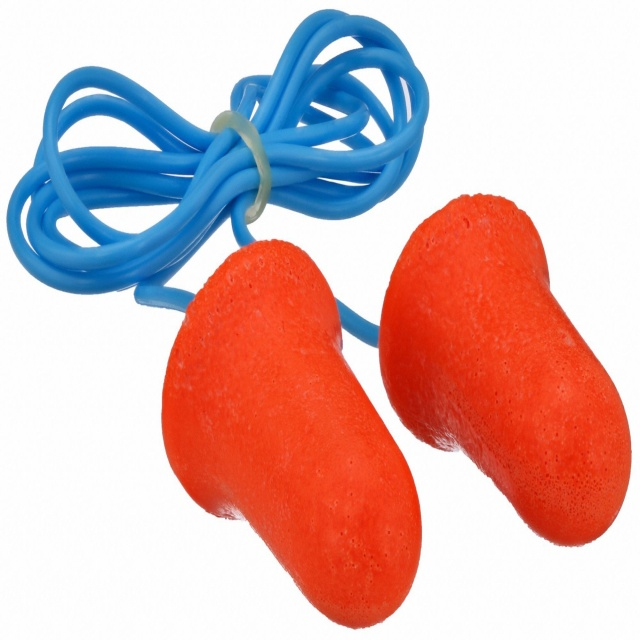Hearing_Protection: (172, 266, 399, 582), (401, 208, 620, 518)
